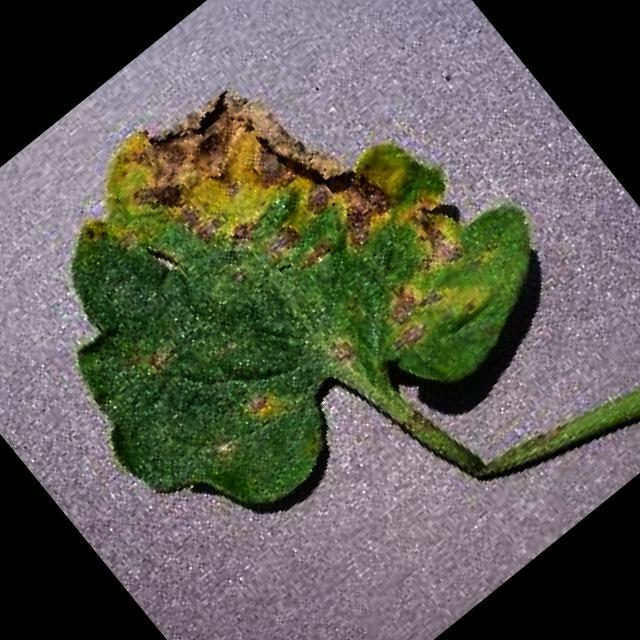Tomato Septoria spot leaf: (0, 0, 583, 582)
